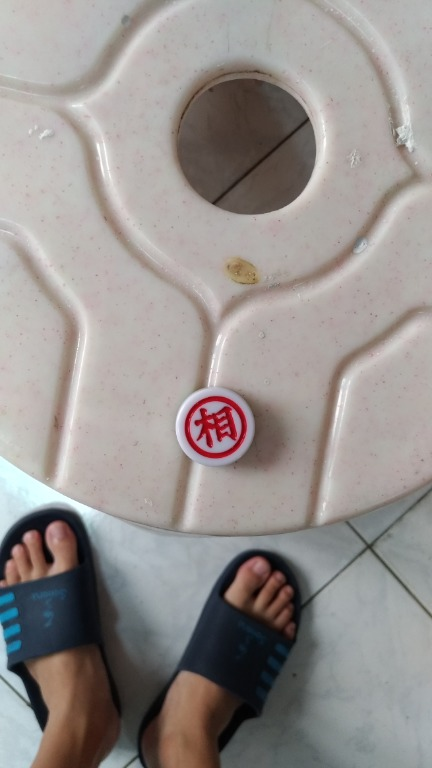r-elephant: (166, 375, 281, 483)
